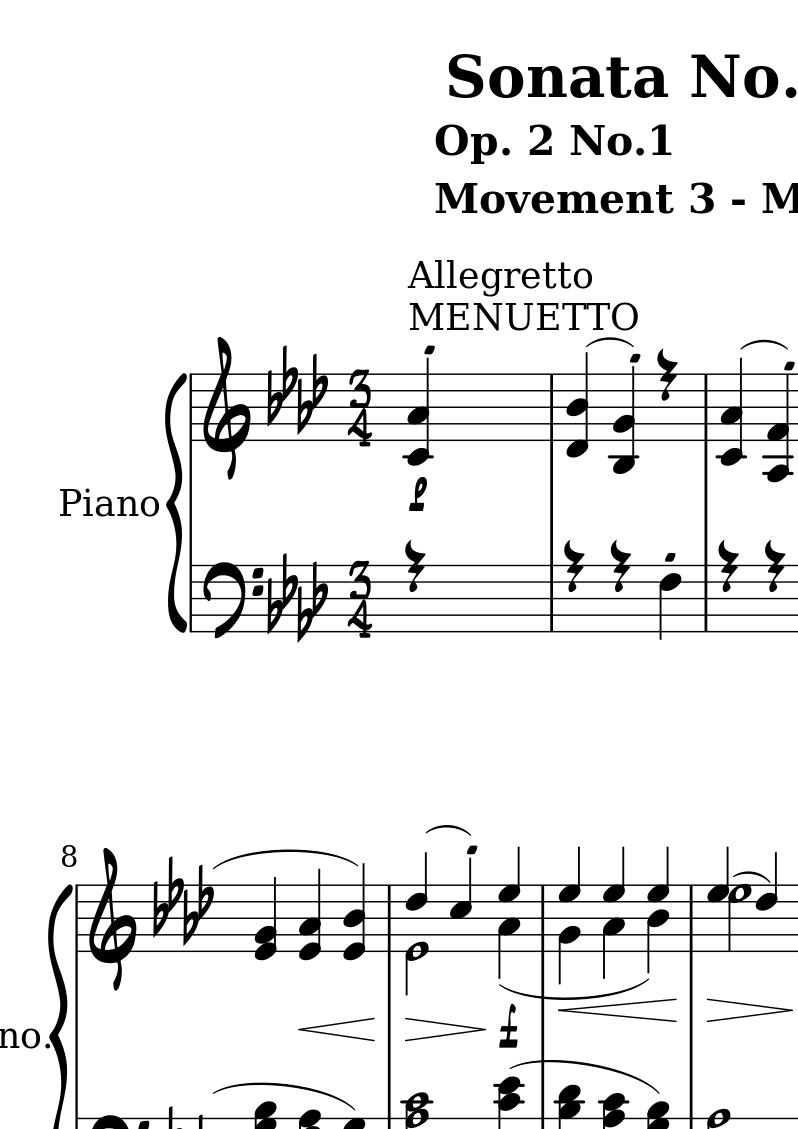2_7: (726, 848, 752, 955)
3: (347, 366, 375, 408), (347, 558, 374, 599)
4: (346, 597, 376, 639), (345, 406, 376, 446)
4_-1_4: (563, 349, 590, 458)
4_-2_3: (398, 356, 436, 467), (714, 357, 750, 468)
4_-3_2: (608, 366, 641, 476)
4_-4_1: (761, 372, 796, 485)
4_0_2: (253, 876, 280, 961)
4_0_3: (298, 867, 323, 961)
4_0_4: (343, 863, 367, 962)
4_2_7: (557, 847, 583, 986)
4_3_7: (601, 846, 627, 982), (496, 847, 521, 982)
4_4_7: (645, 846, 671, 975)
4_5: (447, 856, 474, 953)
4_6: (754, 848, 782, 955), (656, 563, 682, 641)
8: (60, 841, 78, 869)
A_F: (265, 342, 328, 437), (151, 856, 214, 945), (266, 552, 328, 642)
Brace: (164, 366, 186, 641), (48, 884, 72, 1129)
Crescendo_hairpin: (561, 997, 678, 1026), (300, 1017, 376, 1043)
Diminuendo_hairpin: (403, 1014, 484, 1041), (706, 997, 789, 1023)
Fclef: (203, 560, 262, 641)
Gclef: (201, 334, 252, 480), (86, 845, 137, 991)
Pno: (58, 485, 160, 517)
Rests4: (654, 348, 680, 403), (607, 538, 632, 595), (761, 538, 786, 595), (402, 539, 426, 595), (716, 539, 740, 595), (562, 539, 586, 594)
Single_barline: (543, 374, 560, 441), (543, 565, 559, 631), (381, 885, 397, 951), (684, 887, 700, 952), (698, 374, 713, 441), (699, 564, 713, 631), (186, 374, 199, 442), (186, 565, 197, 631)
Slur: (499, 974, 647, 1001), (211, 847, 355, 868), (740, 338, 790, 352), (424, 823, 471, 837), (585, 336, 634, 349), (733, 870, 770, 884)
TimeSig: (346, 559, 372, 641), (347, 369, 373, 450)
f: (498, 1002, 518, 1050)
p: (407, 475, 431, 514)
